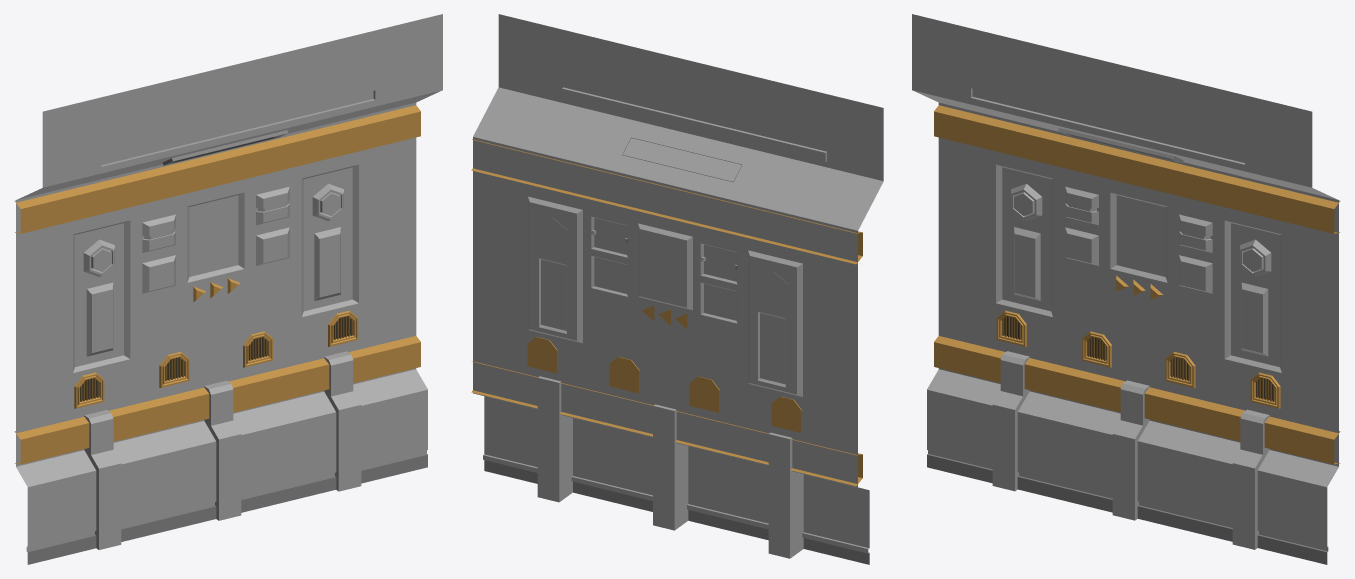
The model's file is Wall_3.fbx.
3 views of the same model, side by side, from view 1: azimuth 30°, elevation 25°; view 2: azimuth 150°, elevation 25°; view 3: azimuth 330°, elevation 25° (orthographic). The views are drawn at different scales.
Parts seen in each view (by area): view 1: Wall_3; view 2: Wall_3; view 3: Wall_3.
Boxes of the visible parts, left/top/right/bottom form: Wall_3: left=14, top=14, right=442, bottom=564; Wall_3: left=471, top=14, right=883, bottom=564; Wall_3: left=912, top=14, right=1340, bottom=564.
Size of the model in its own units: 4 by 4.43 by 0.523.
